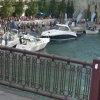Boat: (37, 20, 79, 42)
